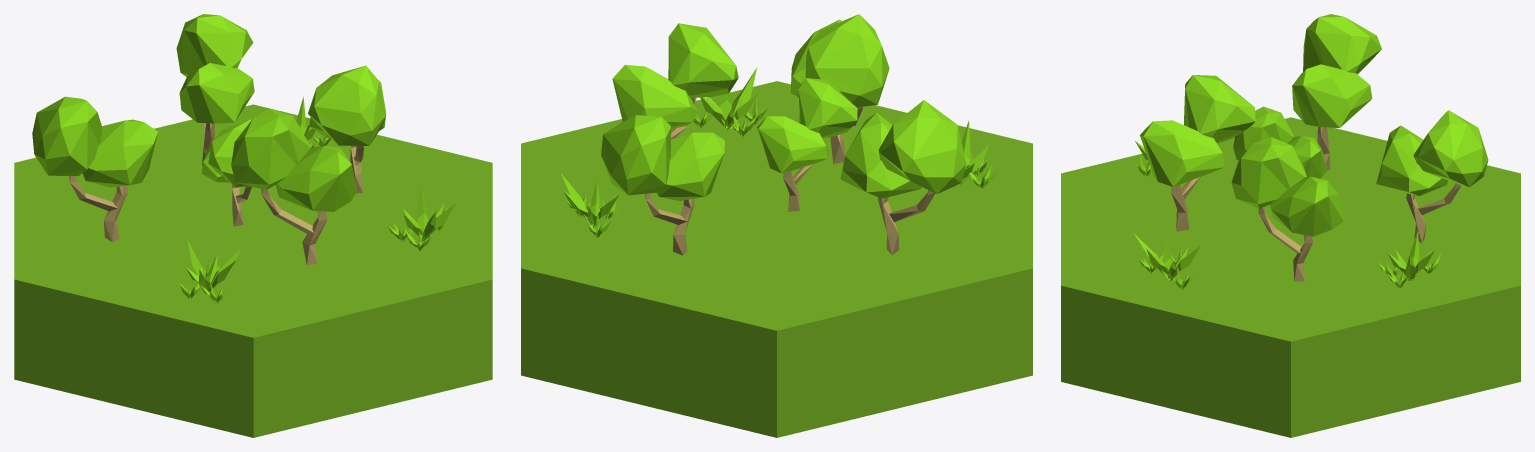
Rendered from Selva_1.fbx.
The picture shows the model from 3 angles, left to right: view 1: azimuth 30°, elevation 25°; view 2: azimuth 150°, elevation 25°; view 3: azimuth 270°, elevation 25°; orthographic projection. The views are drawn at different scales.
Visible parts, largest first — view 1: Selva_1; view 2: Selva_1; view 3: Selva_1.
Part boxes in pixels (box(x1,y1,x2,y2)): Selva_1: box(14, 14, 492, 437); Selva_1: box(521, 14, 1032, 437); Selva_1: box(1061, 14, 1520, 437).
Size of the model in its own units: 200 by 99.25 by 173.
